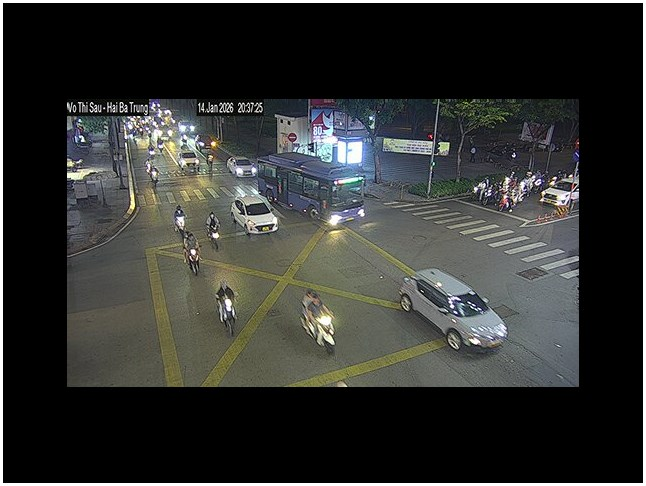bus: (254, 151, 367, 219)
car: (398, 267, 509, 353), (231, 195, 278, 235), (227, 156, 257, 178)
motorbike: (218, 298, 237, 338), (184, 244, 202, 275)
